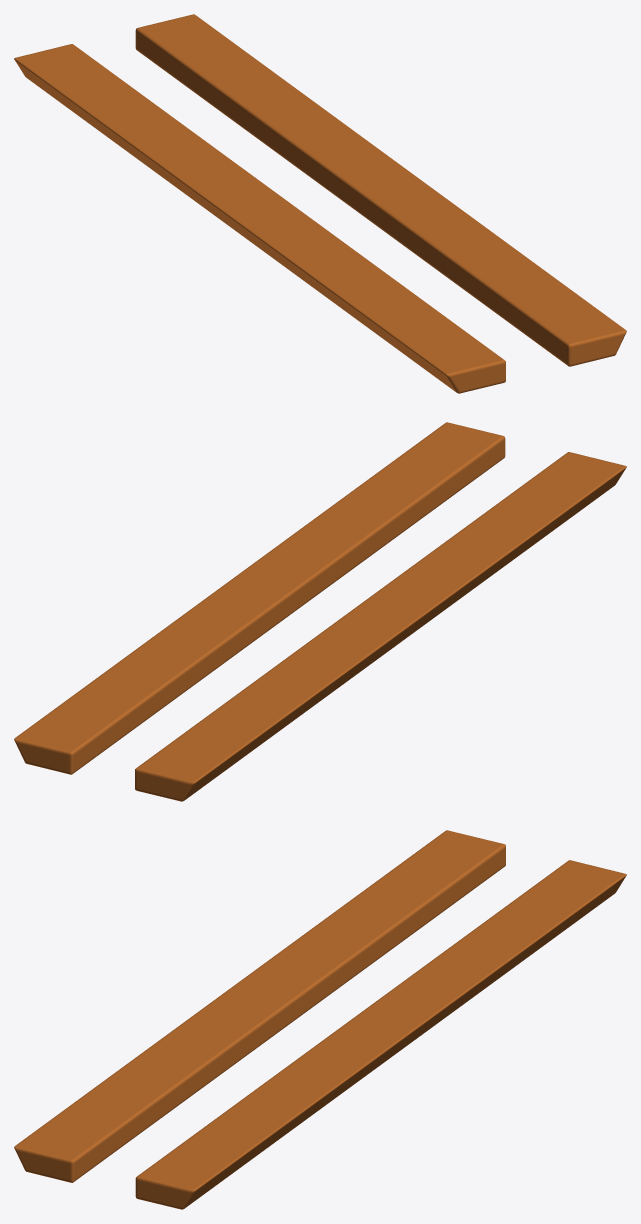
File: Sub Frame Detail.fbx
The picture shows the model from 3 angles, top to bottom: view 1: azimuth 30°, elevation 25°; view 2: azimuth 150°, elevation 25°; view 3: azimuth 330°, elevation 25°; orthographic projection.
Parts seen in each view (by area): view 1: Sub_Frame_Detail; view 2: Sub_Frame_Detail; view 3: Sub_Frame_Detail.
Boxes of the visible parts, x1,y1,x2,y2 form: Sub_Frame_Detail: [14, 14, 626, 393]; Sub_Frame_Detail: [14, 422, 626, 801]; Sub_Frame_Detail: [14, 830, 626, 1209].
Size of the model in its own units: 13.17 by 1.56 by 54.7.
